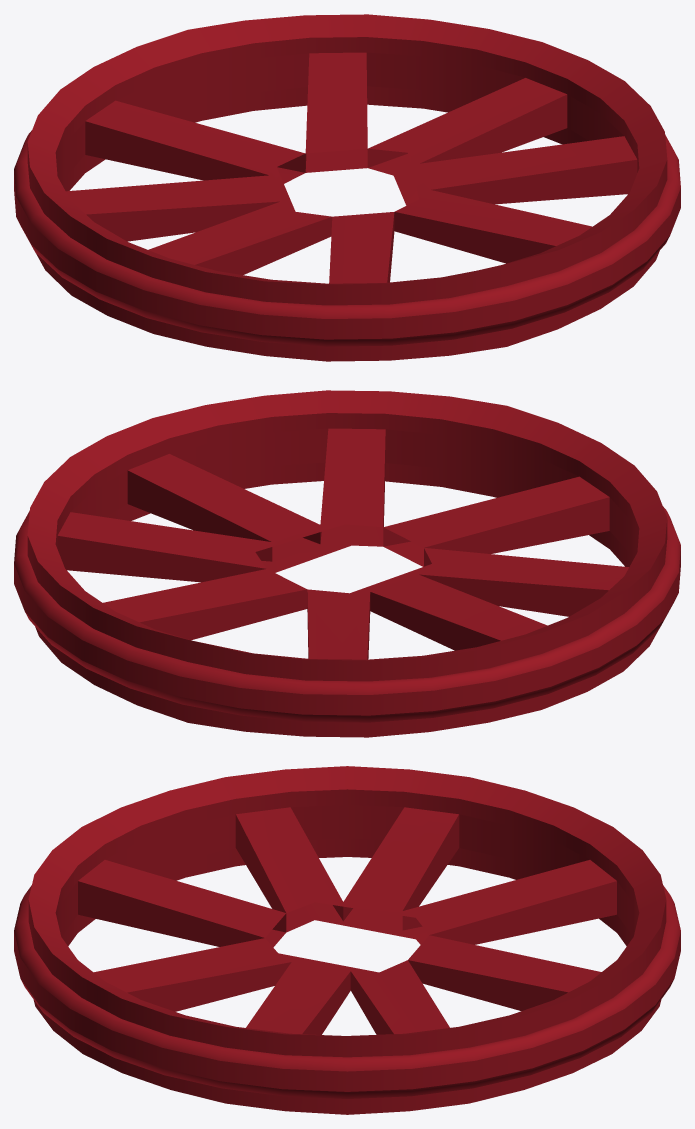
File: platformRoman.fbx
3 views of the same model, one above another, from view 1: azimuth 30°, elevation 25°; view 2: azimuth 150°, elevation 25°; view 3: azimuth 270°, elevation 25° (orthographic).
Parts seen in each view (by area): view 1: Circle; view 2: Circle; view 3: Circle.
Boxes of the visible parts, x1=… form: Circle: x1=14, y1=14, x2=680, y2=361; Circle: x1=14, y1=390, x2=680, y2=737; Circle: x1=14, y1=766, x2=680, y2=1114.
Bounding box in the file's own units: 200 × 27.57 × 200.
